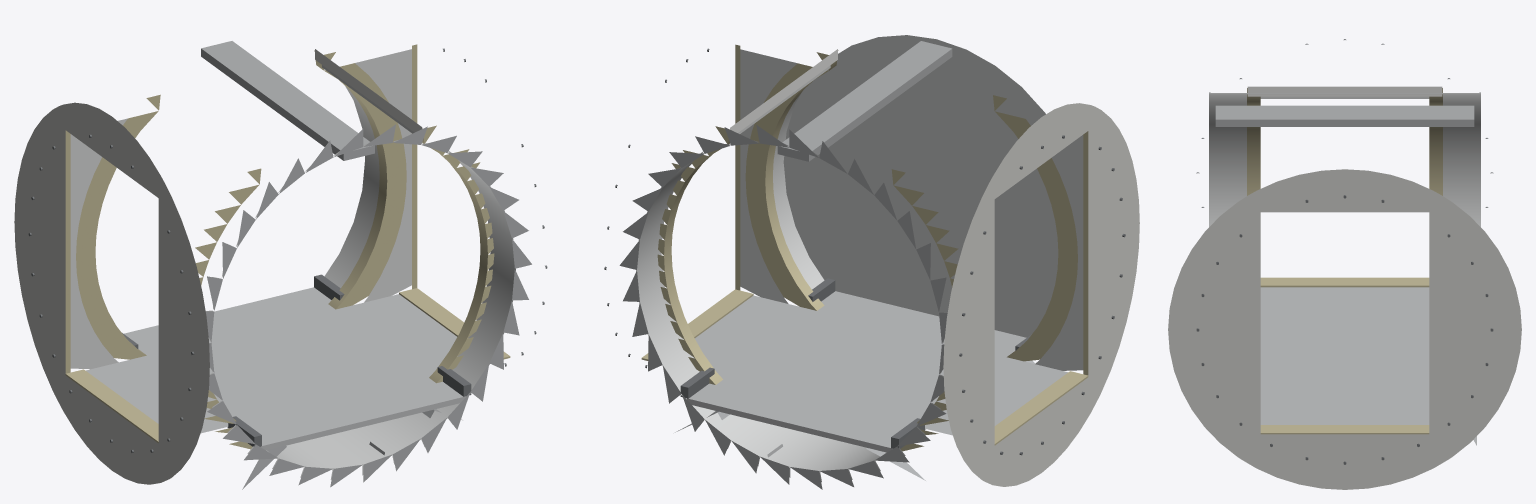
The model's file is habSegJLRf_steel_meshin.glb.
3 views of the same model, side by side, from view 1: azimuth 30°, elevation 25°; view 2: azimuth 150°, elevation 25°; view 3: azimuth 270°, elevation 25° (orthographic). The views are drawn at different scales.
Parts seen in each view (by area): view 1: habSegJLRf_steel_meshin; view 2: habSegJLRf_steel_meshin; view 3: habSegJLRf_steel_meshin.
Boxes of the visible parts, <box> form: habSegJLRf_steel_meshin: <box>14,41,547,489</box>; habSegJLRf_steel_meshin: <box>604,35,1139,489</box>; habSegJLRf_steel_meshin: <box>1168,39,1521,489</box>.
Size of the model in its own units: 2.72 by 2.6 by 2.6.
